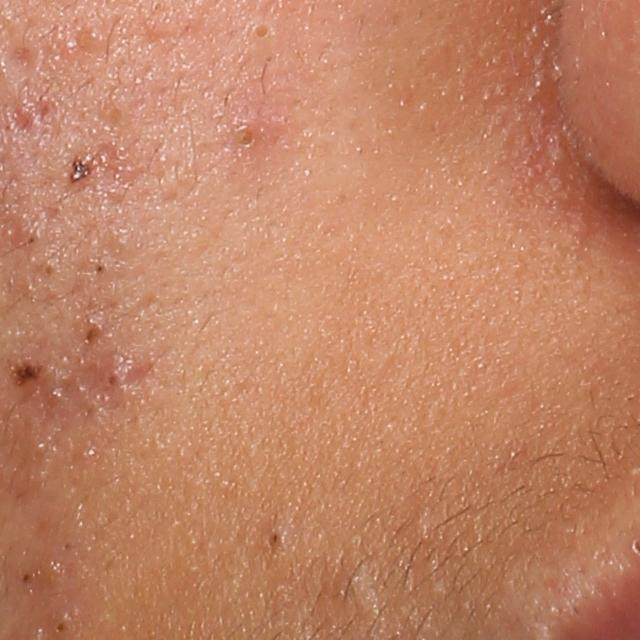atrophic_scar: (0, 41, 47, 86), (5, 101, 43, 138), (121, 359, 155, 391)
comedo: (226, 123, 262, 157), (67, 321, 103, 355), (95, 361, 128, 397), (247, 15, 278, 49), (80, 24, 109, 54), (87, 256, 115, 287), (35, 258, 60, 286), (264, 526, 286, 556), (20, 227, 40, 252), (13, 568, 36, 587)
nevus: (63, 148, 101, 188), (7, 355, 46, 386)
